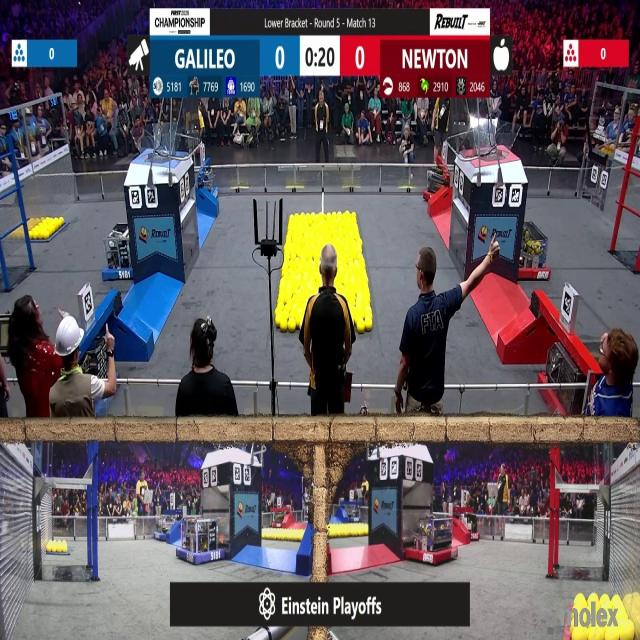ball_ground: (287, 320, 295, 332), (364, 318, 371, 331), (357, 320, 364, 333), (276, 316, 282, 326)
goal: (464, 121, 521, 160), (130, 129, 189, 160)
robot_blue: (65, 330, 117, 414), (178, 516, 226, 565), (102, 225, 137, 281), (196, 166, 220, 198), (152, 516, 176, 542), (341, 506, 363, 524)
robot_red: (540, 355, 605, 416), (410, 514, 456, 564), (518, 235, 550, 281), (423, 165, 451, 203), (452, 512, 480, 541)
